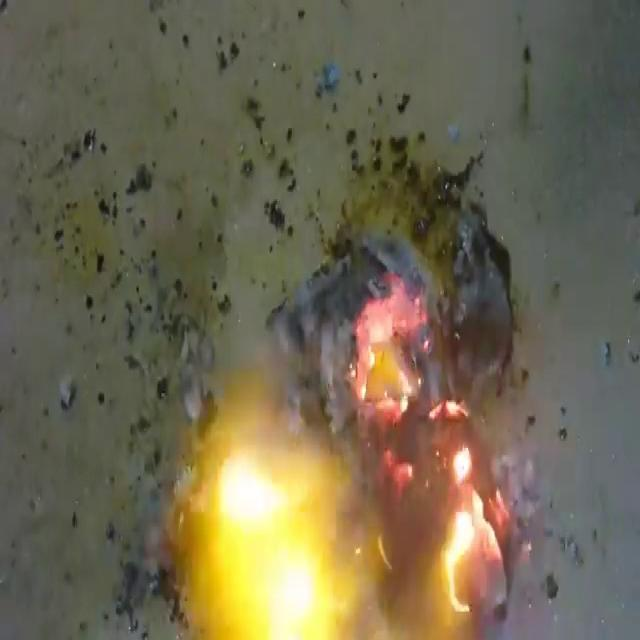Fire: (167, 162, 534, 638)
